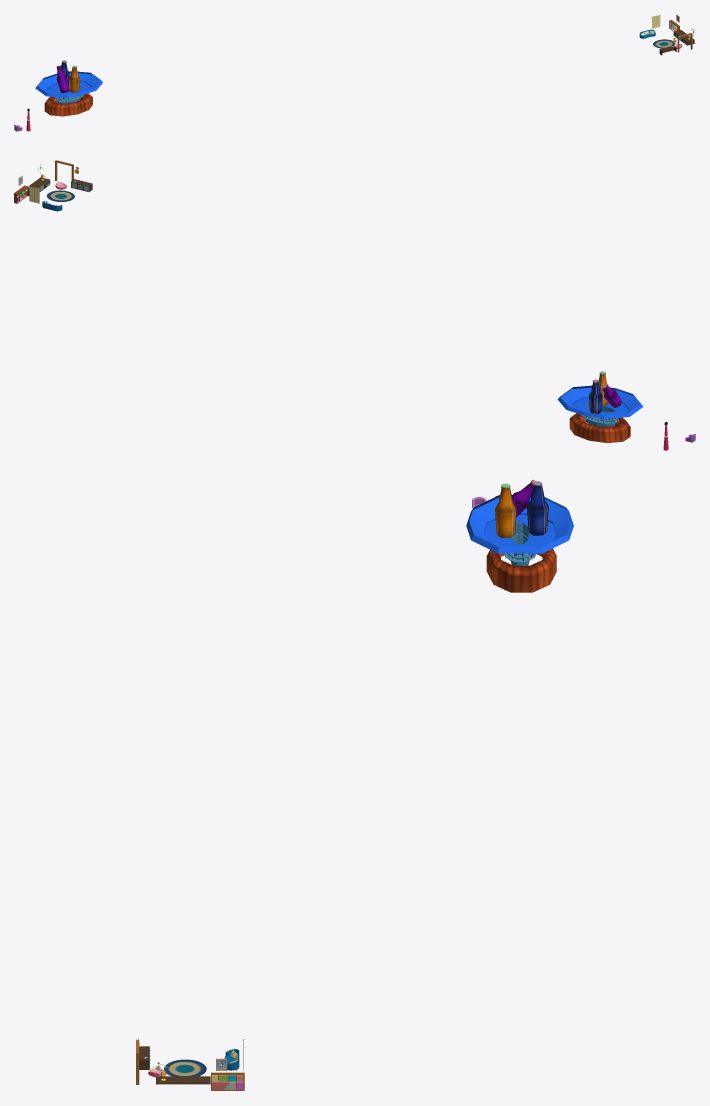
The model's file is color and sofa.fbx.
3 renders of one model, top to bottom at view 1: azimuth 30°, elevation 25°; view 2: azimuth 150°, elevation 25°; view 3: azimuth 270°, elevation 25°, orthographic. The views are drawn at different scales.
Parts seen in each view (by area): view 1: polySurface10073; view 2: polySurface10073; view 3: polySurface10073.
Part boxes in pixels (x1,y1,x2,y2): polySurface10073: (35,60,102,116); polySurface10073: (557,371,643,443); polySurface10073: (466,479,573,592).
Size of the model in its own units: 1192 by 96.65 by 378.
